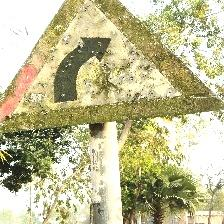Right-turn: (1, 0, 221, 129)
